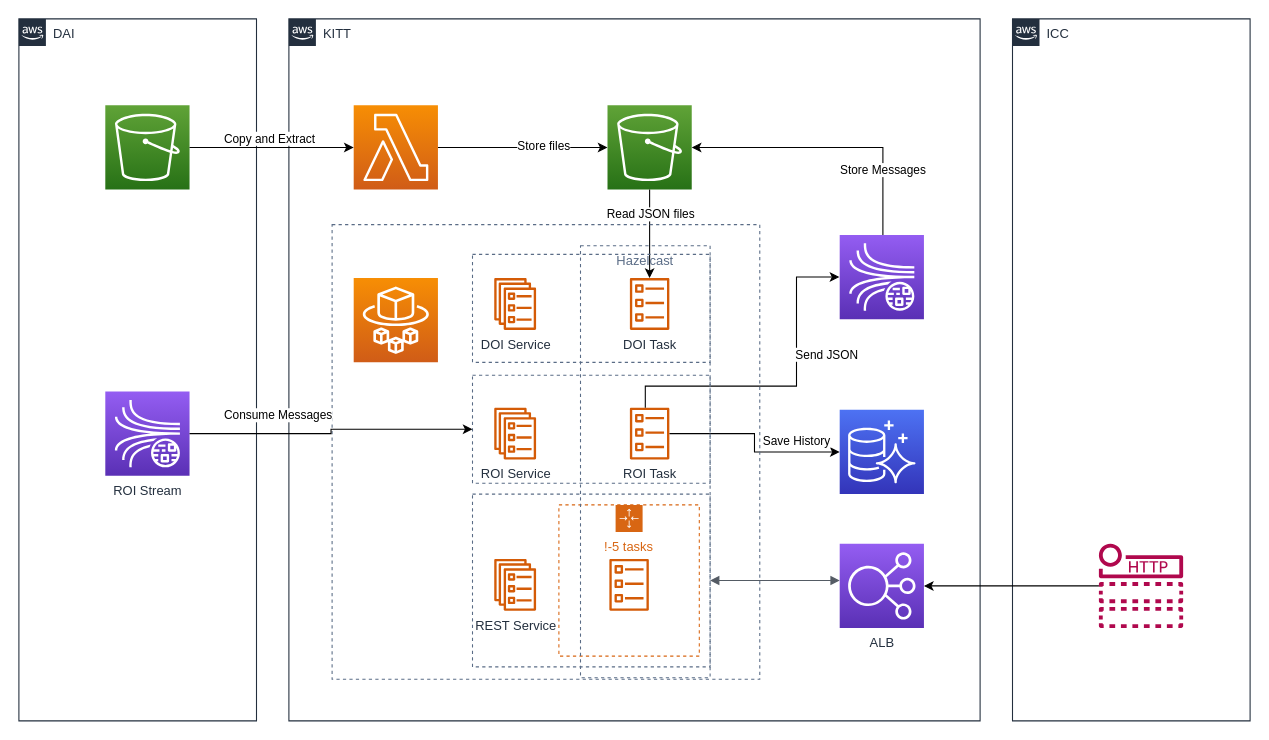
Some shapes in this 1269 by 740 pixel diagram are drawn without their labels. The centre of each missing label's shape, as x and y in pixels:
"Anypoint" belongs at (x=1140, y=585).
"DOI Copy Lambda" belongs at (x=395, y=147).
"DOI S3" belongs at (x=147, y=147).
"ECS Cluster" belongs at (x=395, y=319).
"Kinesis" belongs at (x=881, y=276).
"REST Task" belongs at (x=629, y=584).
